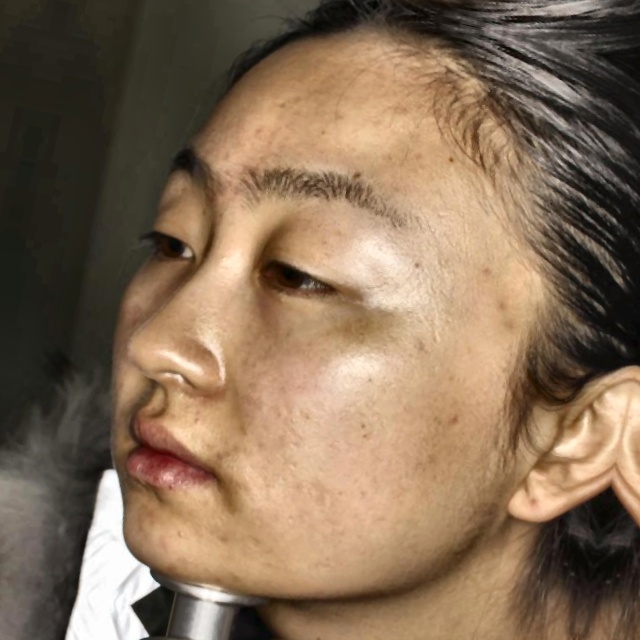comedone: (165, 521, 191, 541)
